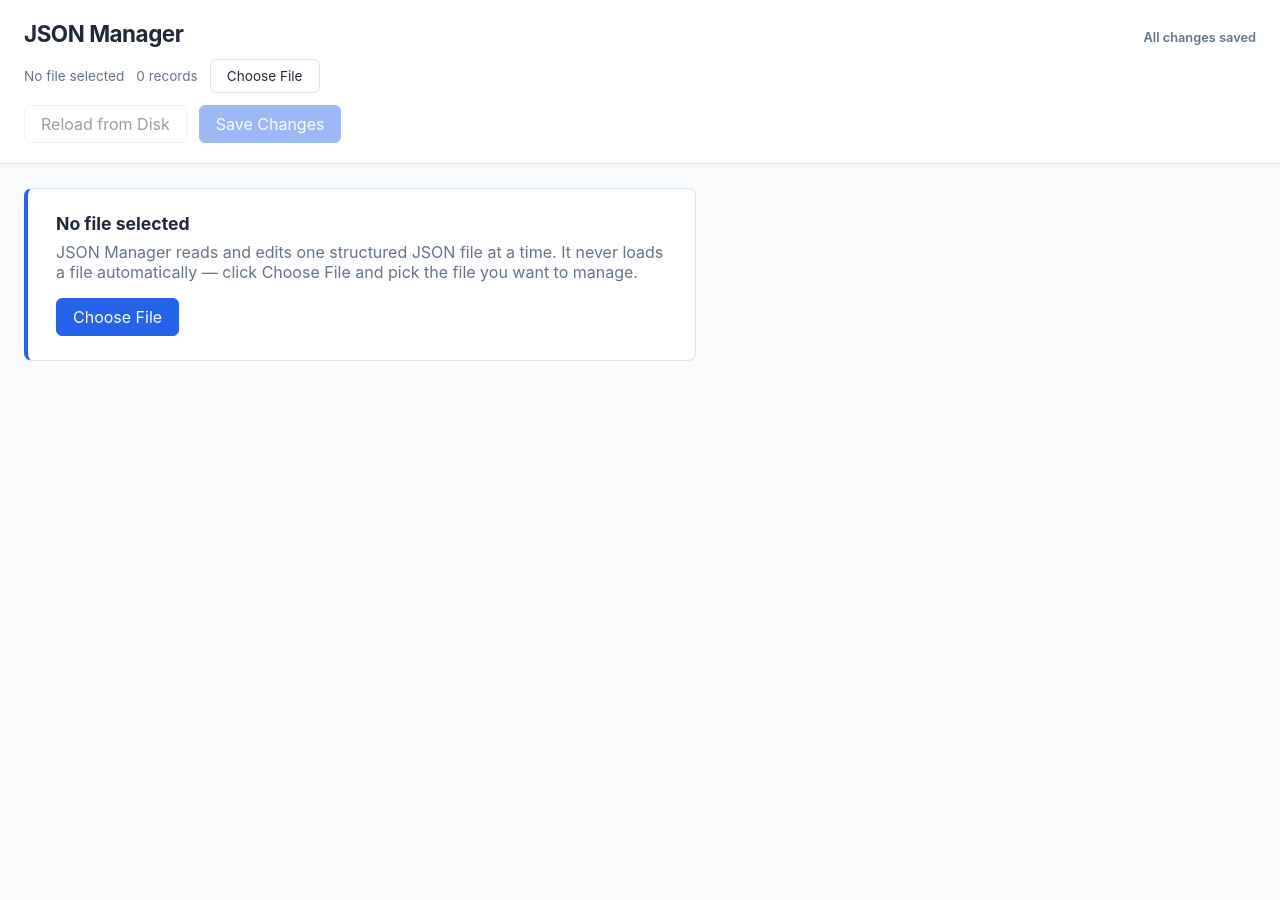
Test: App › saves edits back to the file via the writable handle
Click the button "Choose File" next to "records".
click(265, 76)  # box [210,59,320,93]
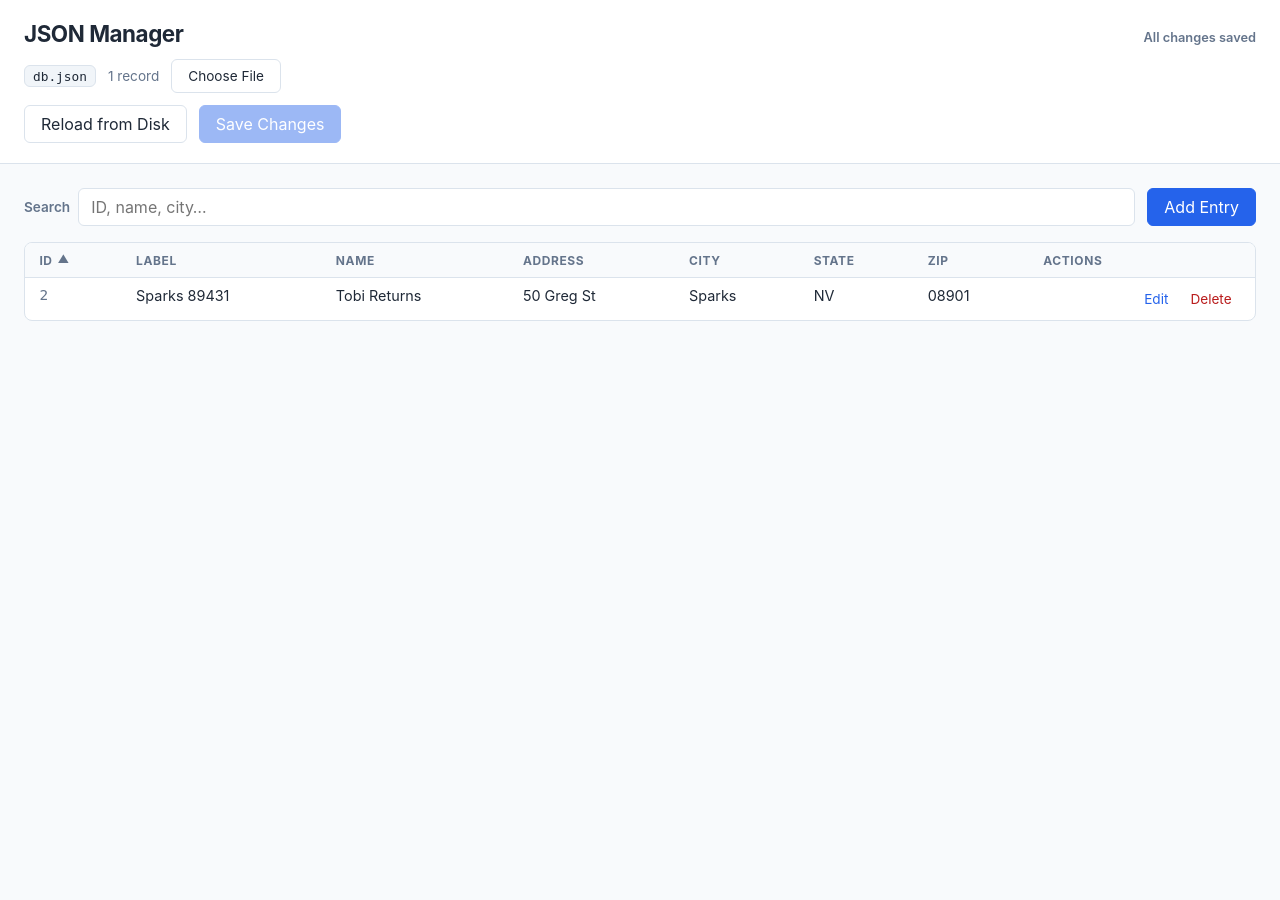
expect the text "Tobi Returns" is shown: met, box [322,278,508,320]
Click the button "Edit".
click(1156, 299)  # box [1135,287,1177,311]
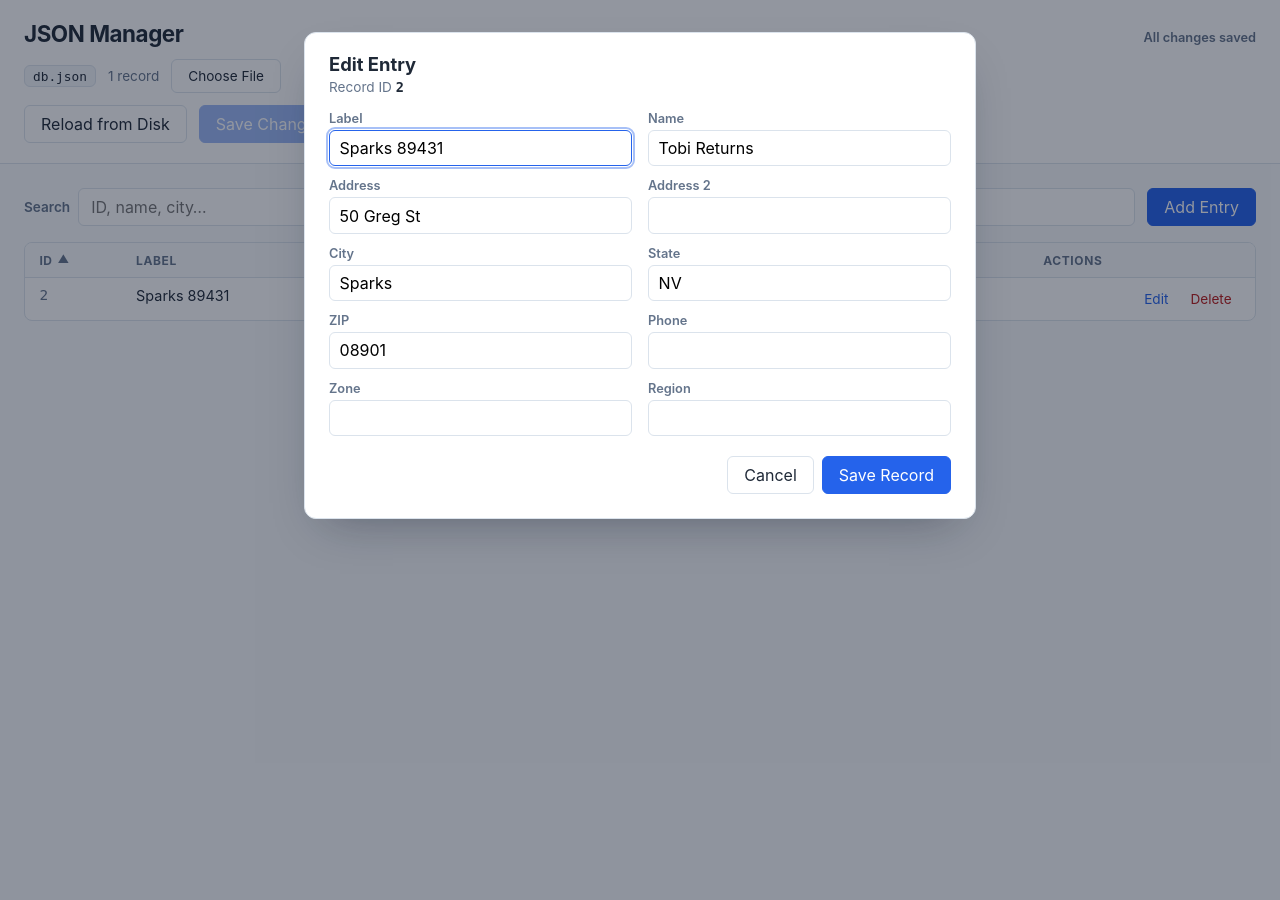
Replace the text in the field labelled "Name" with "Renamed Person" at (800, 148), box [648,130,951,166]
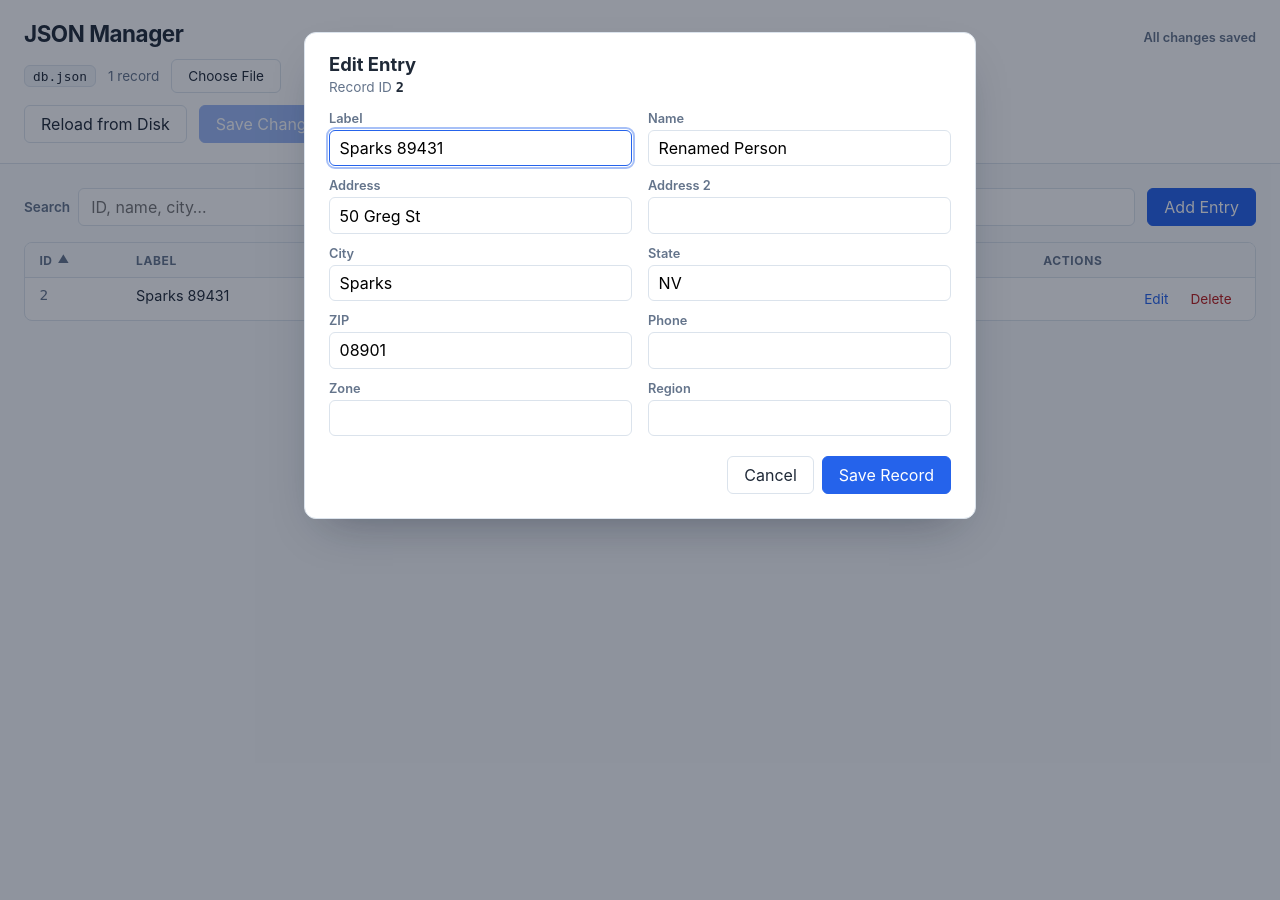
Click the button "Save Record".
click(886, 475)  # box [822,456,951,494]
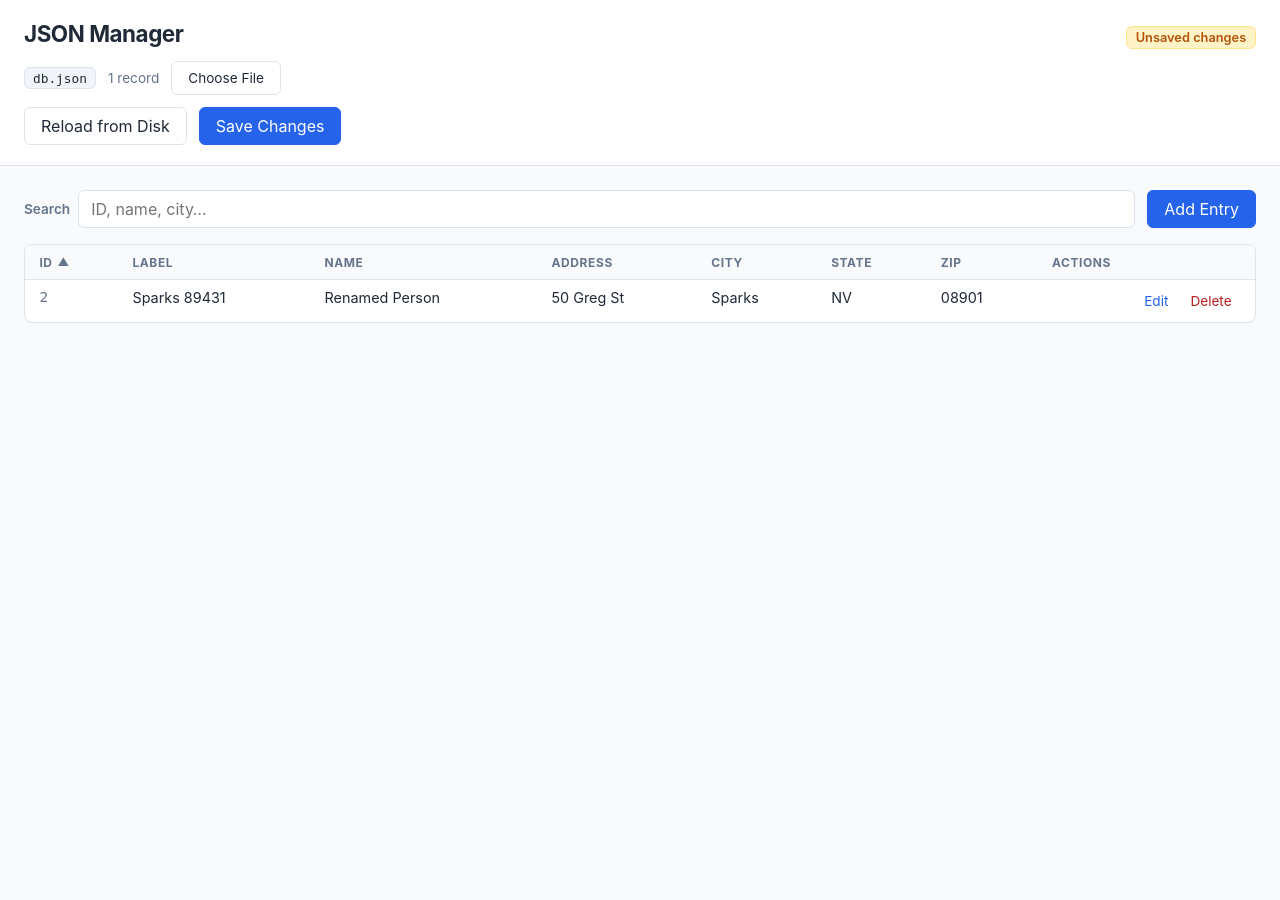
expect the text "Renamed Person" is shown: met, box [310,280,537,322]
Click the button "Save Changes".
click(270, 126)  # box [199,107,341,145]
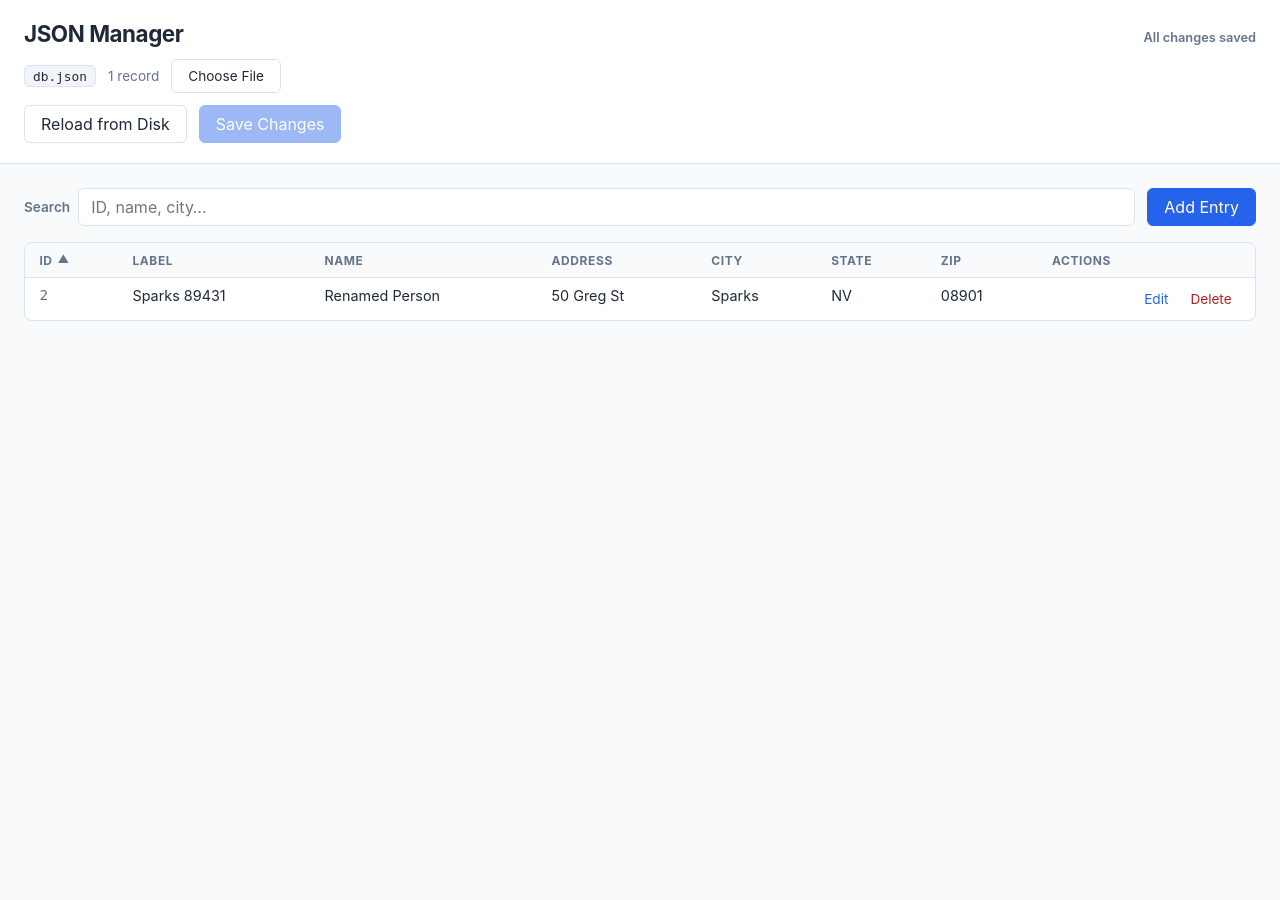
expect the button "Save Changes" is disabled: met, box [199,105,341,143]
expect the text "All changes saved" is shown: met, box [1144,30,1256,45]
